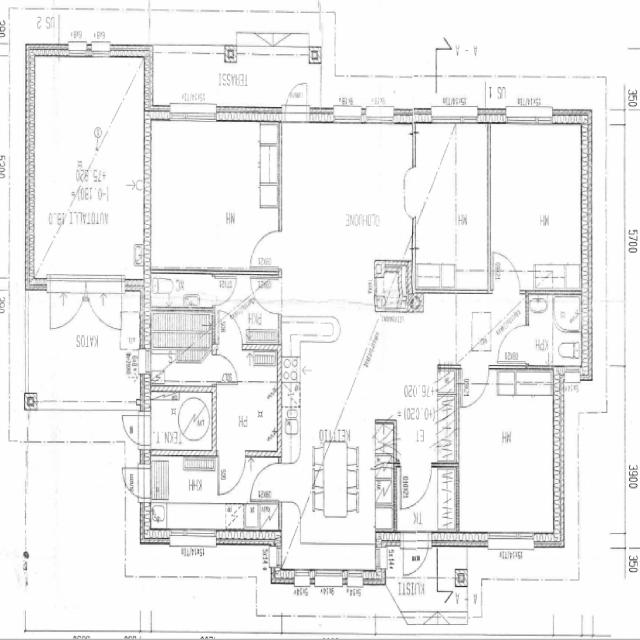door: (86, 279, 121, 340), (50, 279, 85, 340), (401, 462, 431, 508), (403, 533, 428, 581), (250, 463, 282, 500), (218, 449, 244, 492), (462, 365, 488, 407), (252, 278, 281, 313), (252, 231, 281, 266), (500, 326, 529, 361), (494, 254, 519, 294), (118, 468, 151, 498), (285, 77, 306, 122), (218, 313, 242, 350), (120, 415, 150, 444), (212, 355, 238, 385), (212, 278, 235, 304), (394, 168, 416, 193), (394, 193, 416, 218)
